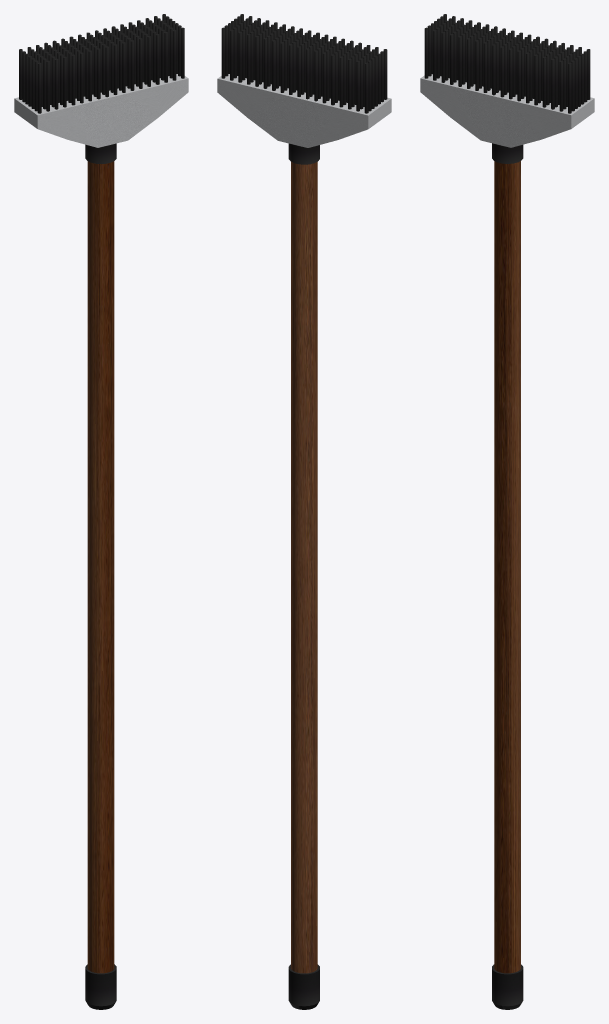
Rendered from Broom.fbx.
3 renders of one model, left to right at view 1: azimuth 30°, elevation 25°; view 2: azimuth 150°, elevation 25°; view 3: azimuth 330°, elevation 25°, orthographic.
Visible parts, largest first — view 1: Cylinder001, Box001, Cylinder003, Cylinder002; view 2: Cylinder001, Box001, Cylinder003, Cylinder002; view 3: Cylinder001, Box001, Cylinder003, Cylinder002.
Boxes of the visible parts, <box> form: Cylinder001: <box>87,161,114,973</box>; Box001: <box>14,74,188,147</box>; Cylinder003: <box>85,964,116,1009</box>; Cylinder002: <box>85,143,116,163</box>; Cylinder001: <box>291,161,317,973</box>; Box001: <box>217,74,391,147</box>; Cylinder003: <box>288,964,319,1009</box>; Cylinder002: <box>288,143,319,164</box>; Cylinder001: <box>494,161,520,973</box>; Box001: <box>420,74,594,147</box>; Cylinder003: <box>492,964,523,1009</box>; Cylinder002: <box>492,143,523,163</box>.
Size of the model in its own units: 11.7 by 71.42 by 3.11.
3 materials, 3 textured.
